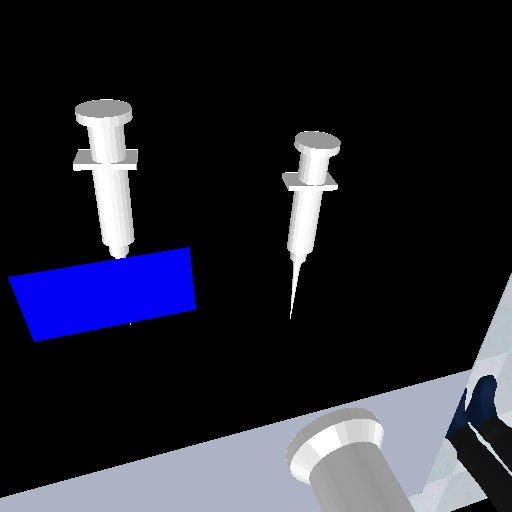jeringuilla: (274, 124, 344, 325), (64, 95, 146, 262)
